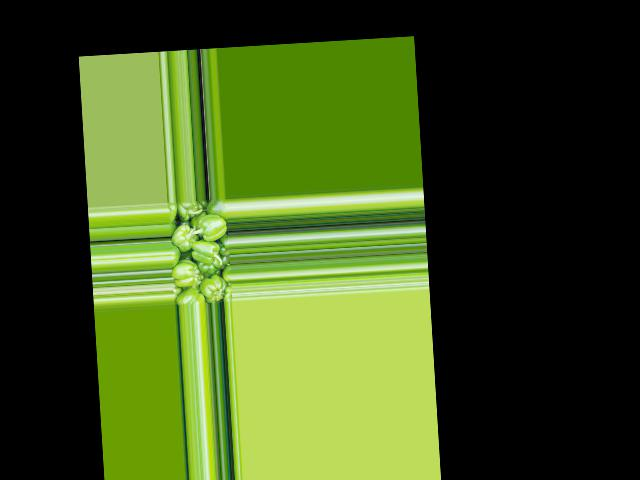bell_pepper: (206, 198, 227, 222)
